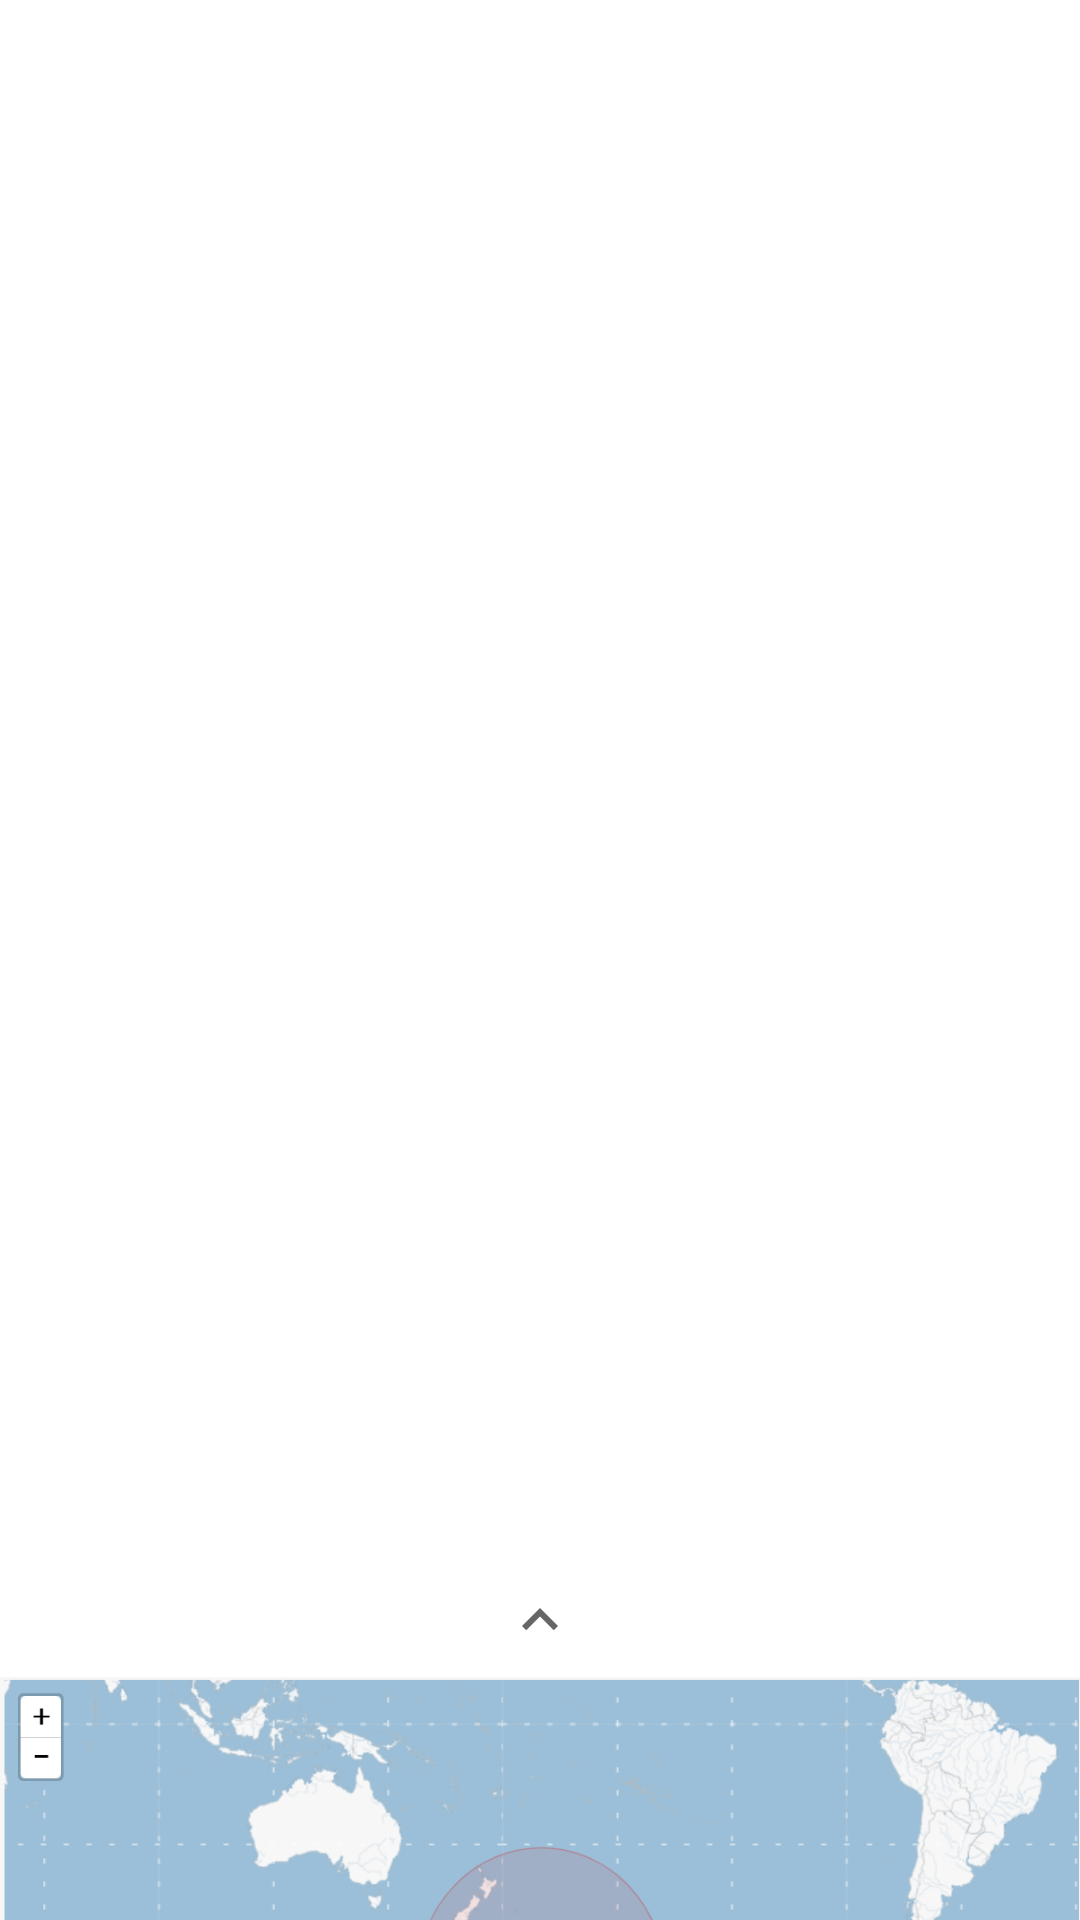

Screen size 1080px x 1920px. Icon name, then its box in pixels as region(x1, y1, x2, y2):
arrow slide up: region(522, 1608, 558, 1630)
